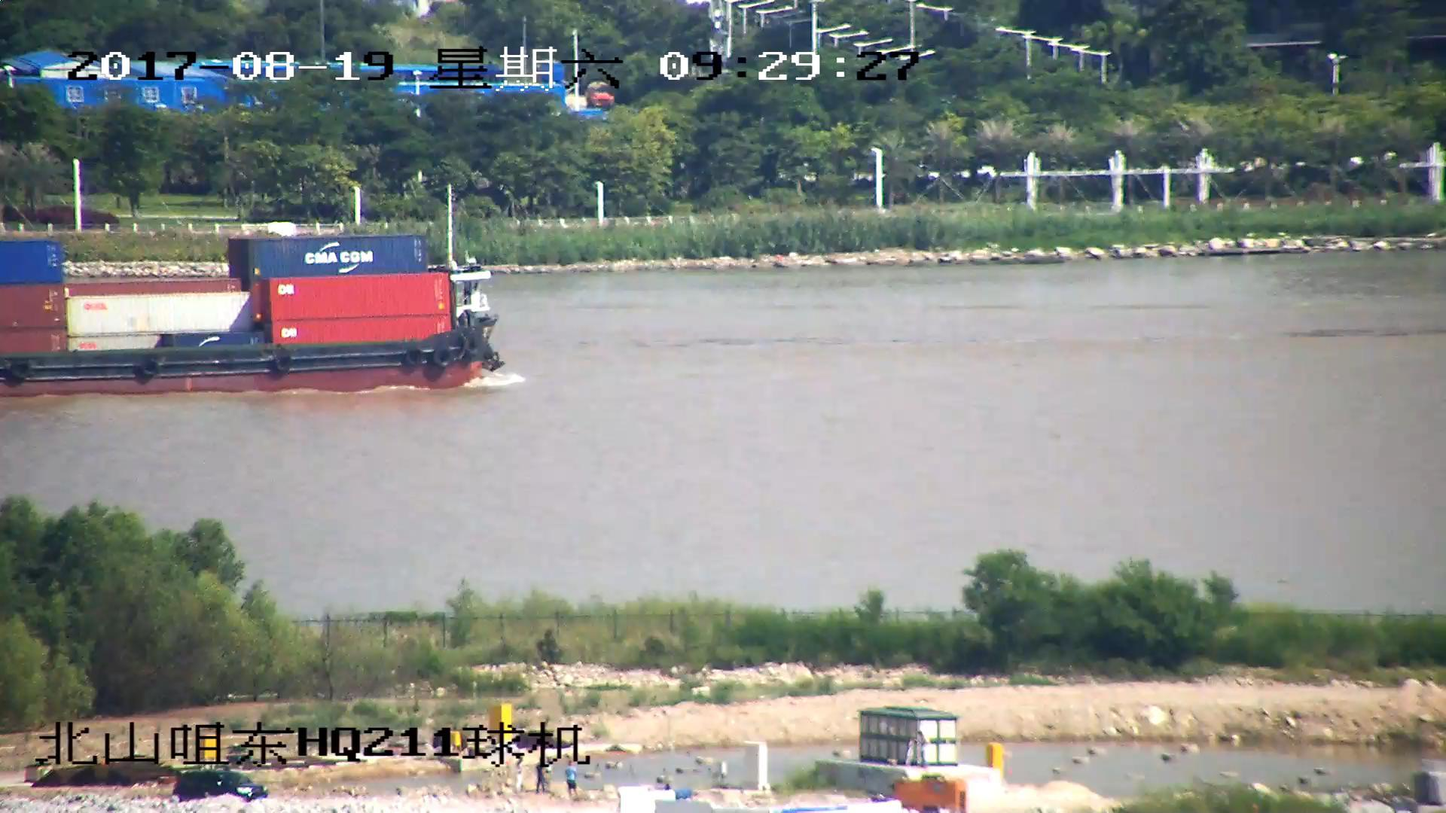container ship: (0, 190, 508, 394)
